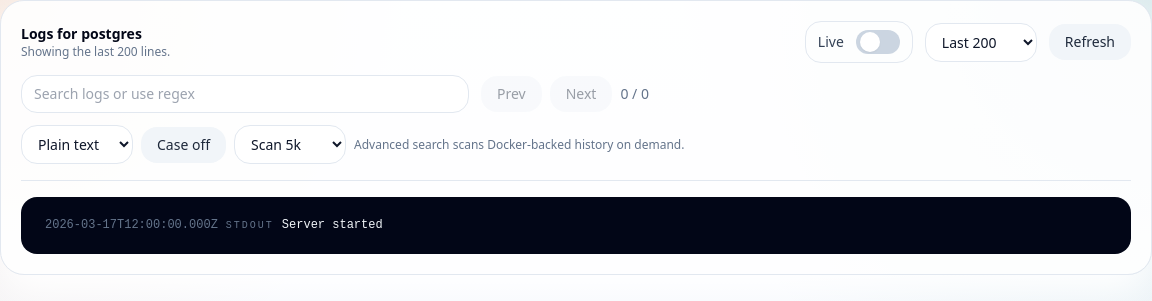
Test: ContainerLogsPanel › clears advanced search and restores the snapshot log view
Expected: the text "Server started" is shown, [282, 218, 383, 232]
Type "error" into the field named "Search logs for postgres" at [245, 94], box [21, 75, 469, 113]
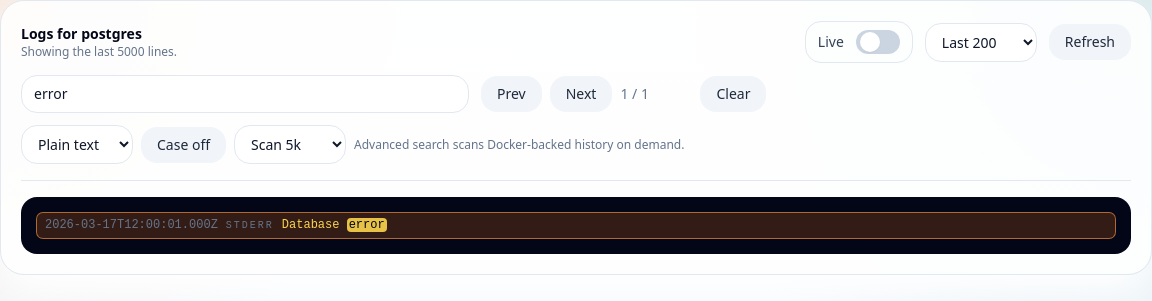
Click the button "Clear" at [733, 94], box [700, 76, 766, 112]
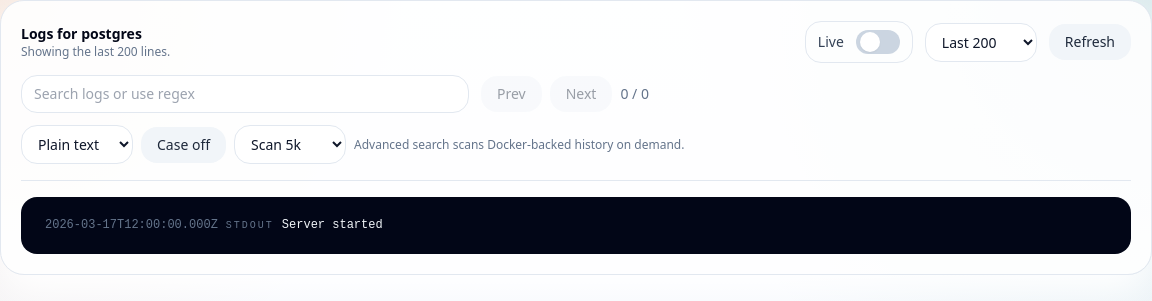
Now the text "Server started" is shown, box [282, 218, 383, 232]
